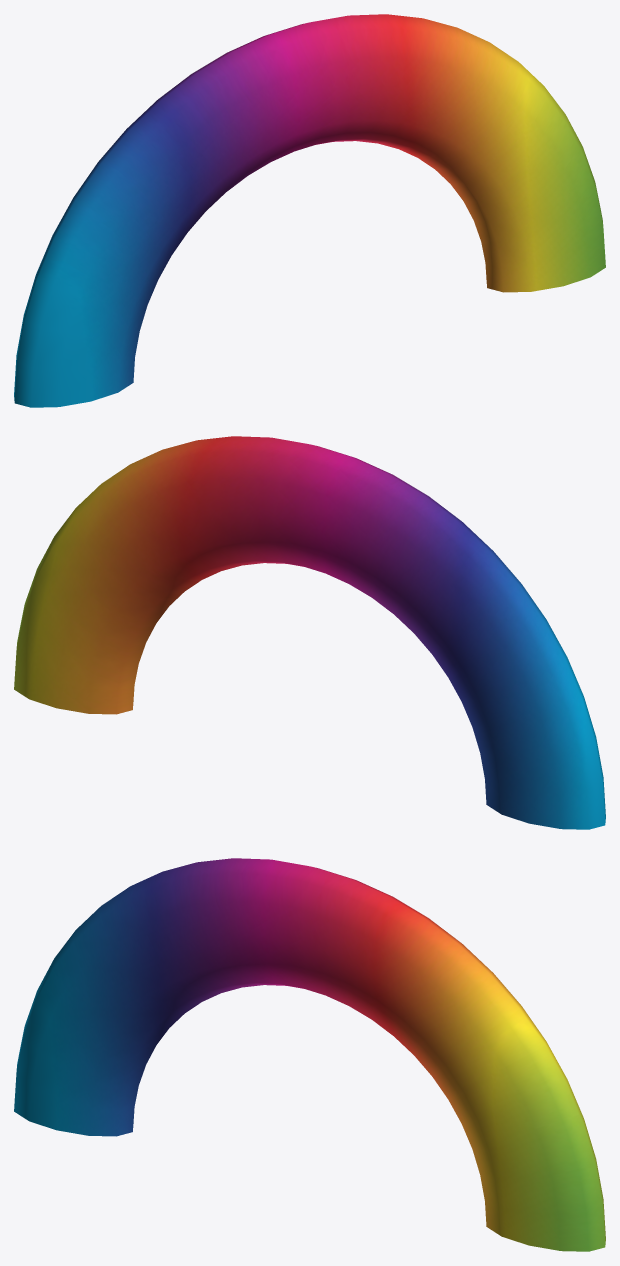
Rendered from goal2.obj.
3 renders of one model, top to bottom at view 1: azimuth 30°, elevation 25°; view 2: azimuth 150°, elevation 25°; view 3: azimuth 330°, elevation 25°, orthographic.
Visible parts, largest first — view 1: Torus; view 2: Torus; view 3: Torus.
Part boxes in pixels (x1,y1,x2,y2): Torus: [14, 14, 605, 407]; Torus: [14, 436, 605, 829]; Torus: [14, 858, 605, 1251].
Bounding box in the file's own units: 68.27 × 34.13 × 6.89.
